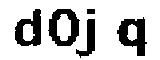0: (47, 8, 82, 49)
d: (7, 6, 43, 51)
j: (79, 6, 101, 59)
q: (114, 14, 148, 60)
